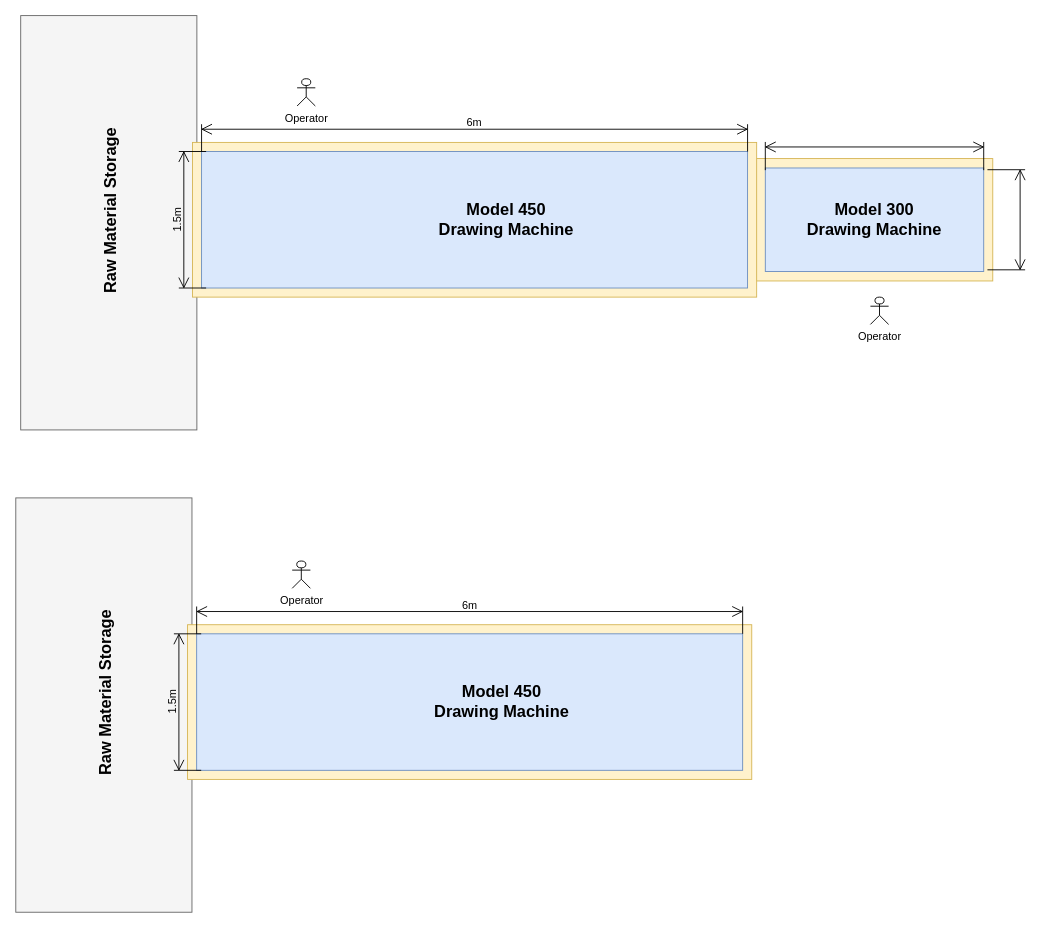
The diagram is 1042 pixels wide and 929 high, and some of its shapes have lost their labels. Each missing label, with the box of its shape:
1.1m: (987, 169, 1025, 270)
2.4m: (764, 141, 984, 170)
